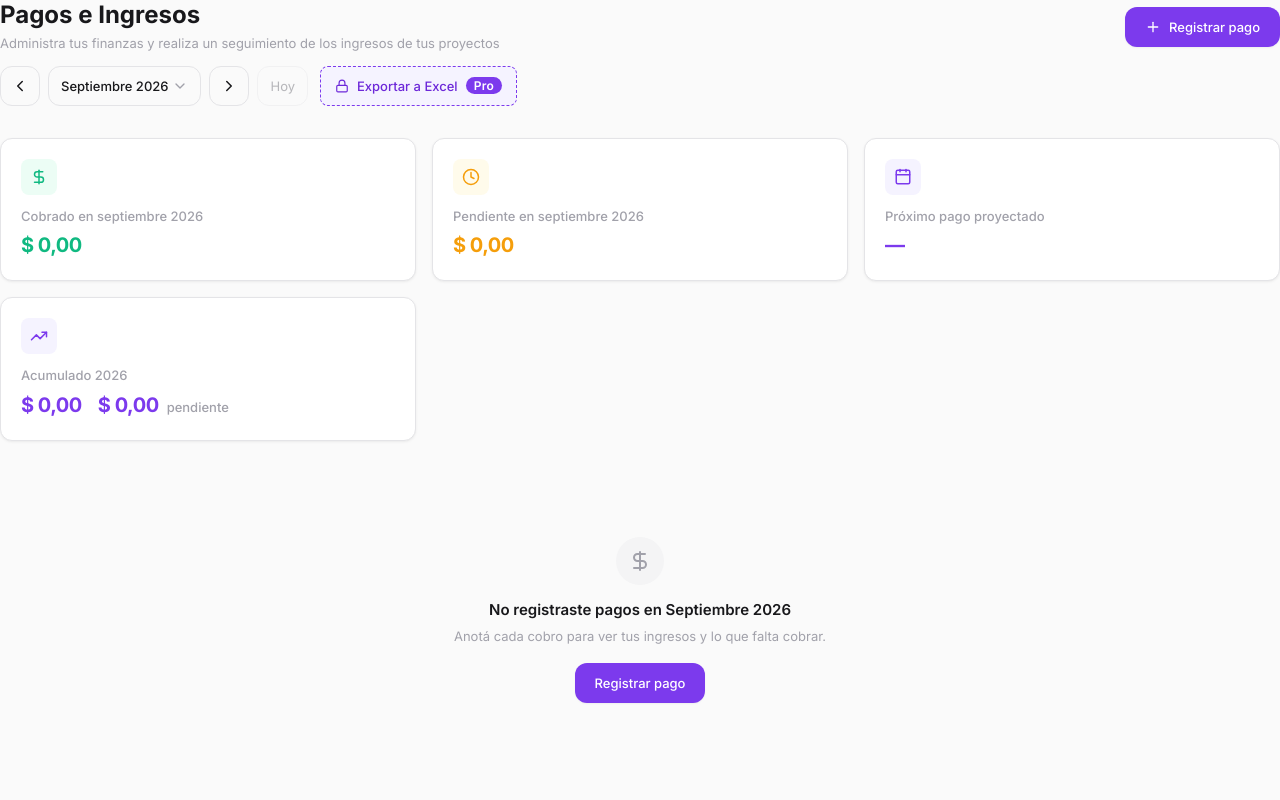
PaymentsPage — toast feedback › shows 'Pago registrado' after creating a payment in the same (current) month
Click the button "Registrar pago" in the row of "Pagos e Ingresos" at (1203, 27), box [1125,7,1279,47]
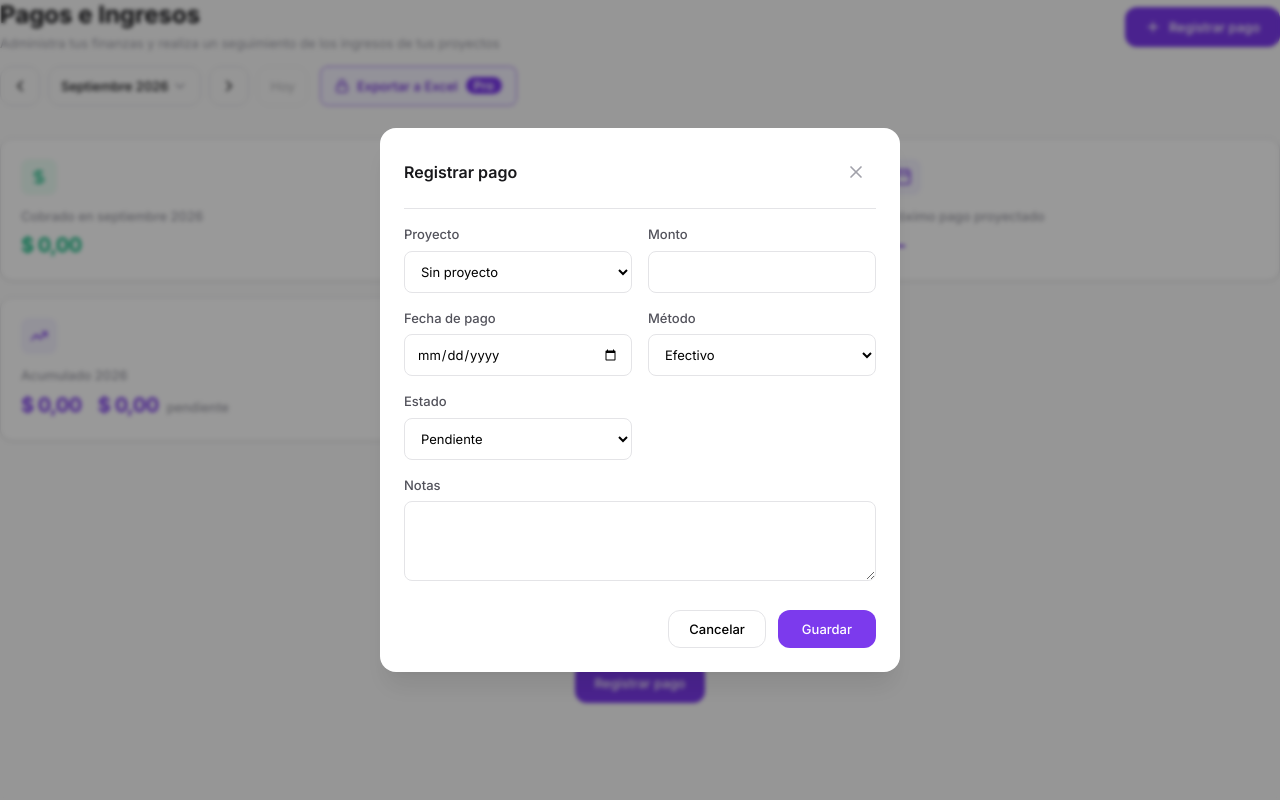
Type "200" into the number field labelled "Monto" at (762, 272), box [648,250,876,292]
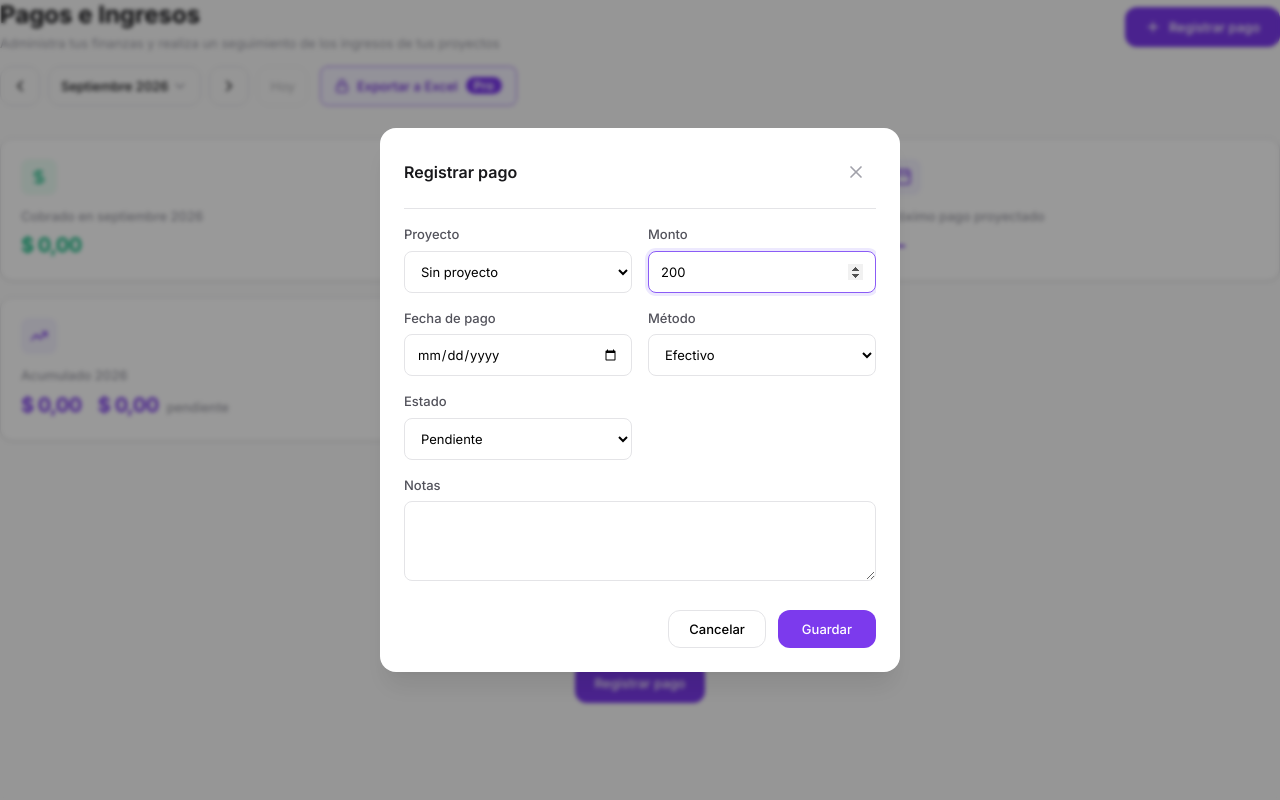
Click the button "Guardar" at (827, 629), box [778,610,876,648]
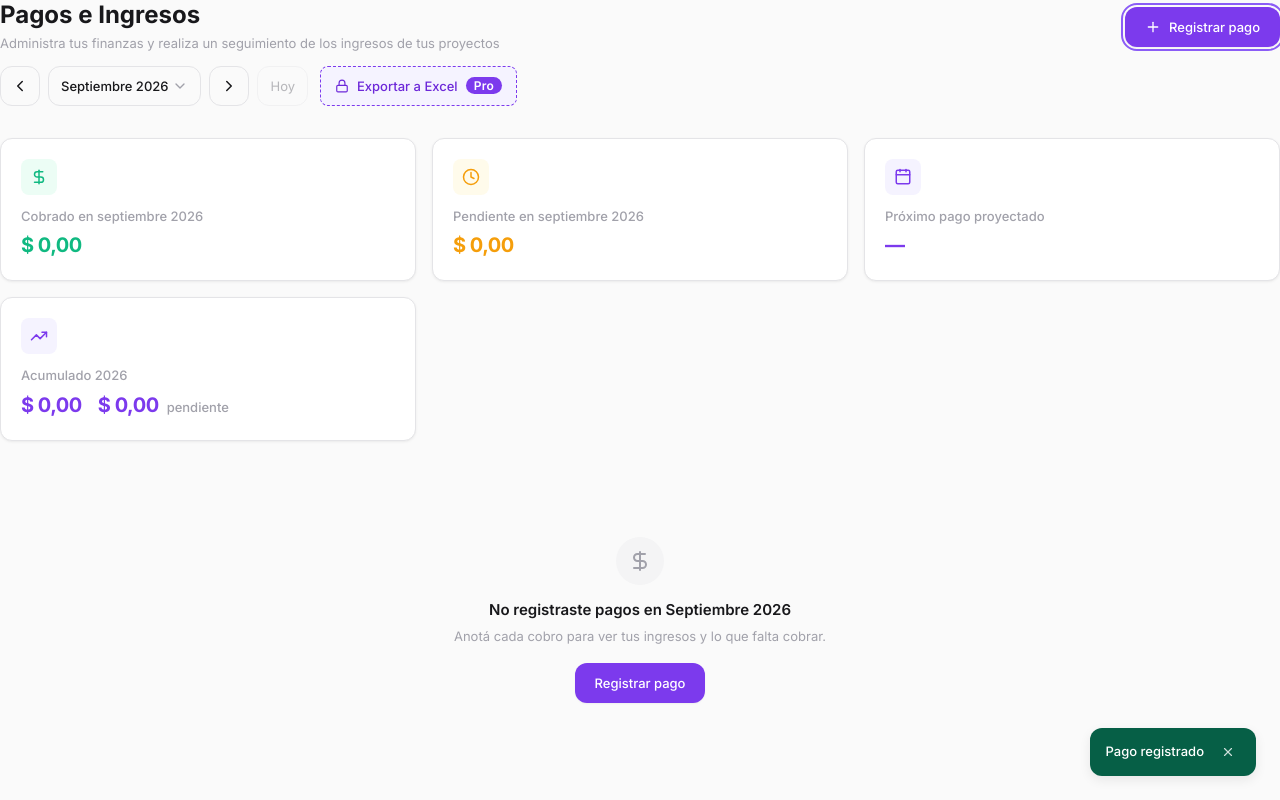
Check: the text "Pago registrado" is shown, box [1106,742,1204,762]
